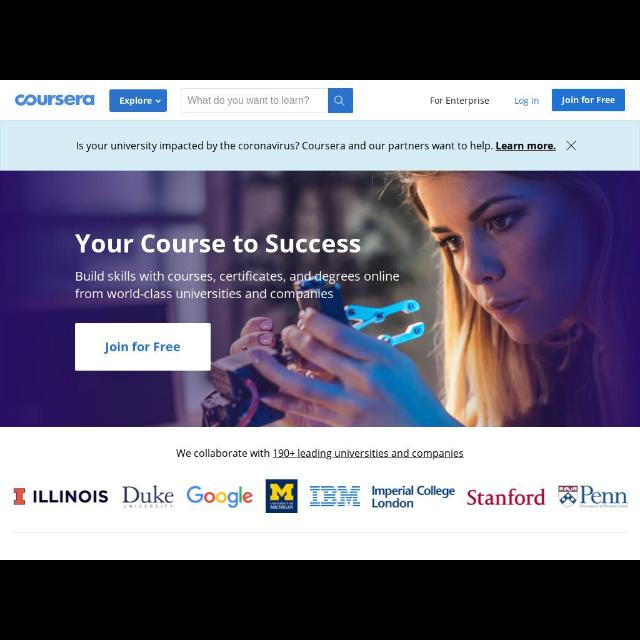backgroundimage: (1, 172, 639, 426)
button: (329, 88, 353, 114)
icon: (334, 95, 346, 106), (566, 141, 576, 151), (155, 98, 161, 104)
image: (372, 486, 454, 508), (12, 487, 108, 505), (558, 486, 628, 509), (186, 487, 252, 509), (466, 490, 546, 508), (122, 486, 174, 510), (266, 479, 298, 513), (310, 487, 360, 508), (14, 95, 94, 106)
input: (182, 88, 328, 112)
spinner: (110, 90, 166, 112)
text: (77, 272, 399, 298), (75, 233, 361, 254), (76, 140, 558, 152), (176, 448, 464, 460), (186, 94, 308, 108), (104, 341, 180, 355), (430, 97, 490, 107), (560, 96, 614, 106), (120, 96, 150, 106), (514, 97, 540, 107)
textbutton: (76, 324, 210, 371), (551, 90, 625, 112)
